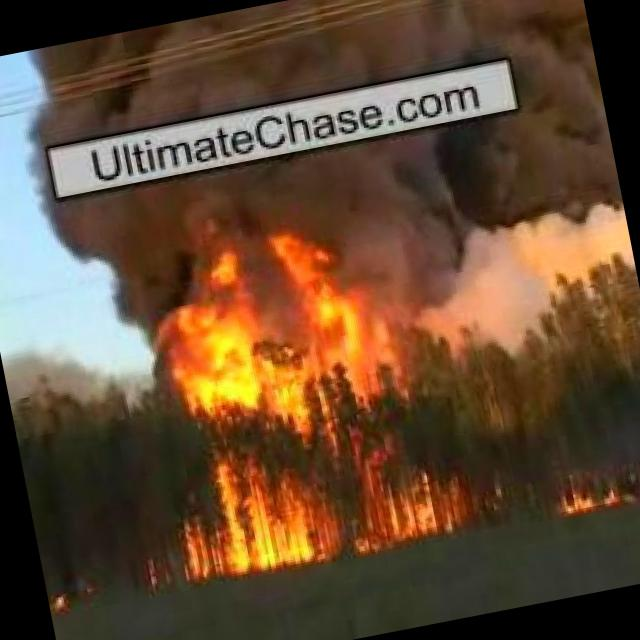Fire: (135, 205, 492, 583), (548, 457, 640, 520)
Smoke: (26, 99, 640, 405), (20, 0, 591, 147)
